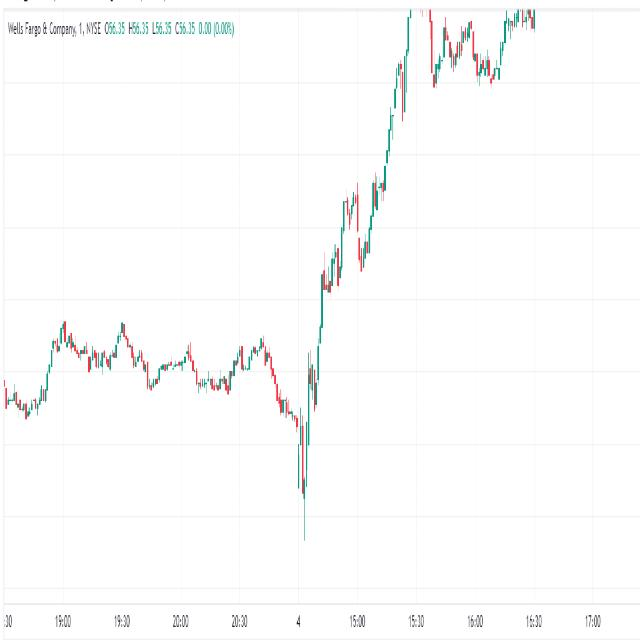Double-Top: (438, 15, 477, 76), (339, 176, 363, 247)
